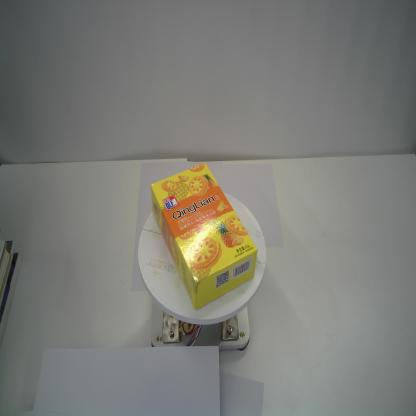Dessert: (150, 163, 258, 313)
